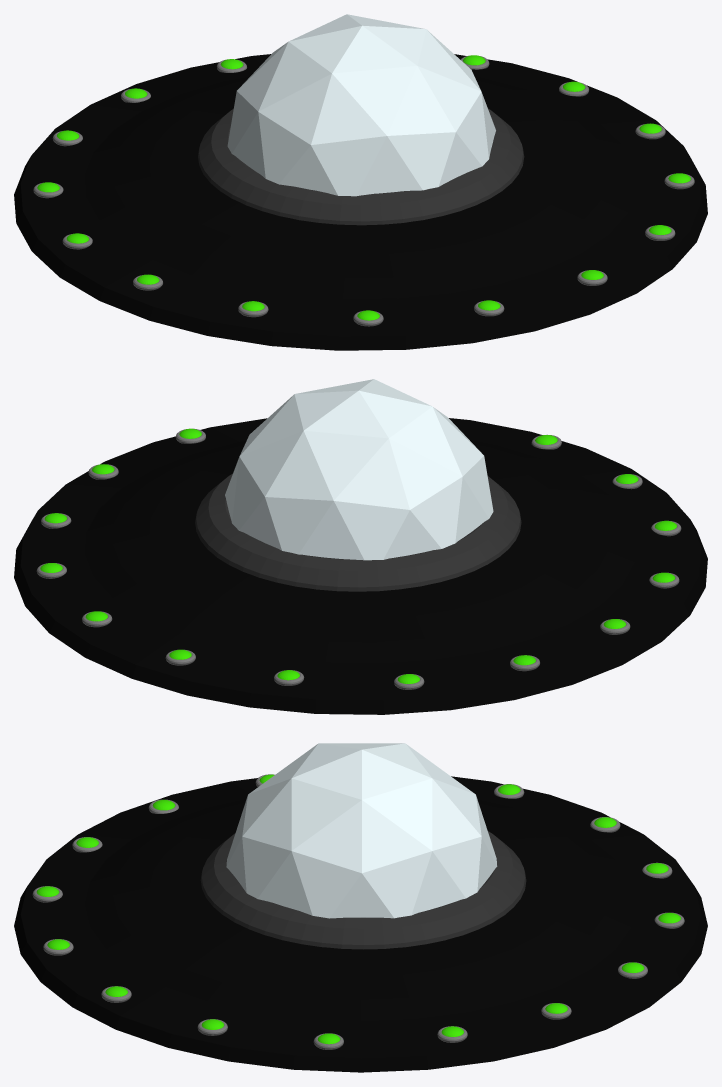
The model's file is enemy.fbx.
The picture shows the model from 3 angles, top to bottom: view 1: azimuth 30°, elevation 25°; view 2: azimuth 150°, elevation 25°; view 3: azimuth 270°, elevation 25°; orthographic projection.
Visible parts, largest first — view 1: Sphere; view 2: Sphere; view 3: Sphere.
Boxes of the visible parts, x1,y1,x2,y2 form: Sphere: (14, 14, 707, 350); Sphere: (14, 379, 707, 714); Sphere: (14, 743, 707, 1072).
Bounding box in the file's own units: 2019 × 742 × 2019.
